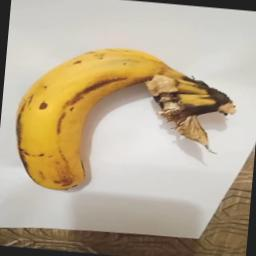Banana Unripe: (1, 39, 236, 205)
